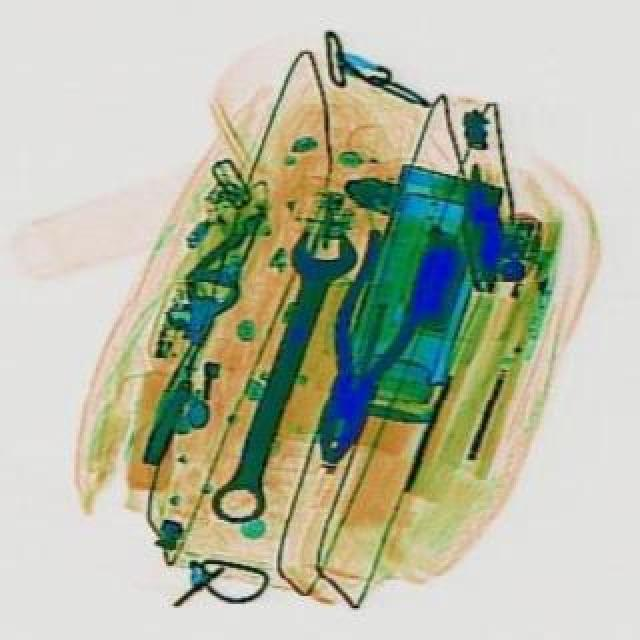scissors: (196, 218, 360, 530)
wrench: (286, 224, 442, 472)
